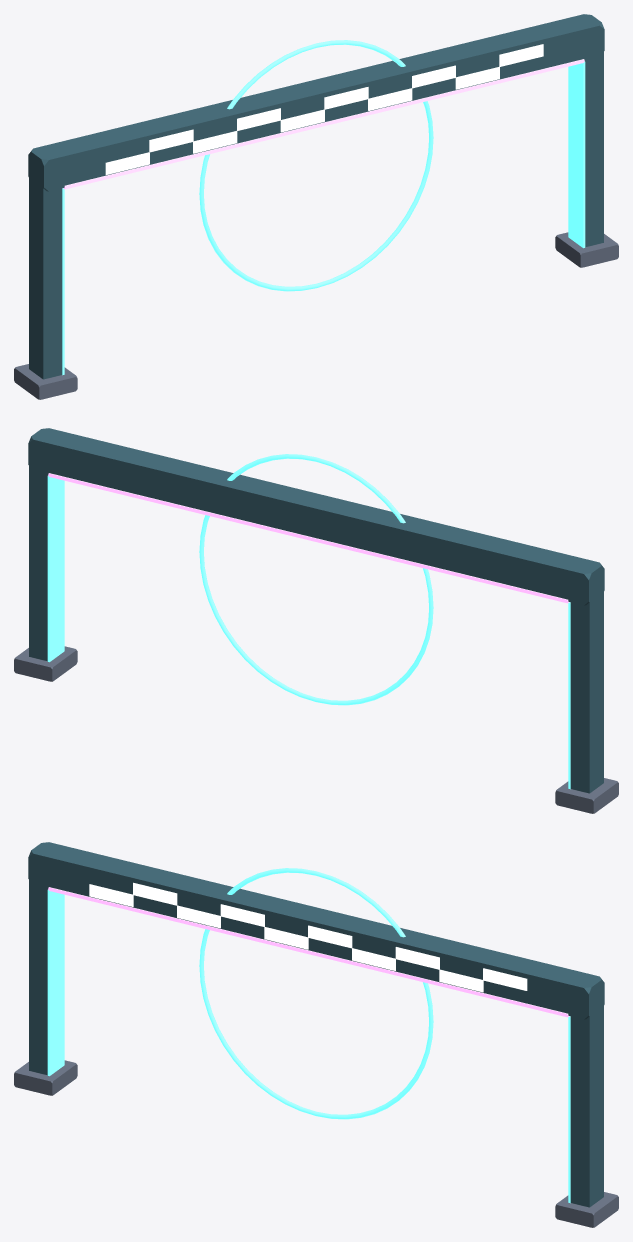
Rendered from Checkpoint-Arch-v3.0.0.glb.
The picture shows the model from 3 angles, top to bottom: view 1: azimuth 30°, elevation 25°; view 2: azimuth 150°, elevation 25°; view 3: azimuth 330°, elevation 25°; orthographic projection.
Visible parts, largest first — view 1: header, pylonL, pylonR, halo, pylonGlowR, headerGlow, footL, footR, checker11, checker20, checker80, checker91 (+7 smaller); view 2: header, pylonL, pylonR, halo, pylonGlowR, headerGlow, footL, footR, pylonGlowL; view 3: header, pylonR, pylonL, halo, pylonGlowL, headerGlow, footR, footL, checker11, checker31, checker80, checker00 (+7 smaller).
Part boxes in pixels (x1,y1,x2,y2): header: (28,14,604,191); pylonL: (29,173,62,379); pylonR: (585,52,603,247); halo: (199,40,433,291); pylonGlowR: (568,61,585,248); headerGlow: (63,59,584,189); footL: (14,364,77,399); footR: (555,232,618,267); checker11: (149,129,193,152); checker20: (193,131,237,153); checker80: (455,66,499,89); checker91: (499,44,543,66); header: (28,428,604,605); pylonL: (570,592,603,793); pylonR: (29,466,47,661); halo: (199,454,433,705); pylonGlowR: (47,475,64,662); headerGlow: (48,473,569,603); footL: (555,778,618,813); footR: (14,646,77,681); pylonGlowL: (568,602,570,789); header: (28,842,604,1019); pylonR: (570,1006,603,1207); pylonL: (29,880,47,1075); halo: (199,868,433,1119); pylonGlowL: (47,889,64,1076); headerGlow: (48,887,569,1017); footR: (555,1192,618,1227); footL: (14,1060,77,1095); checker11: (133,882,177,905); checker31: (220,904,264,926); checker80: (439,969,483,992); checker00: (89,884,133,906).
Size of the model in its own units: 21.2 by 9.68 by 1.6.
